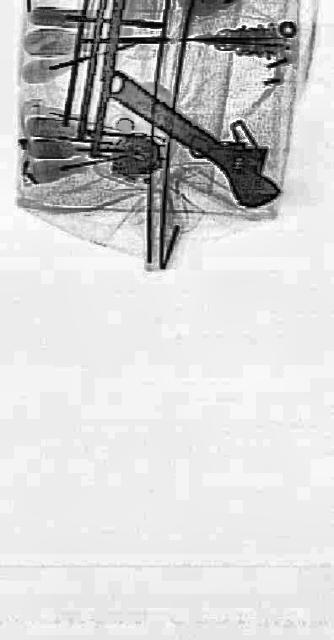Wrench: (99, 42, 285, 226)
